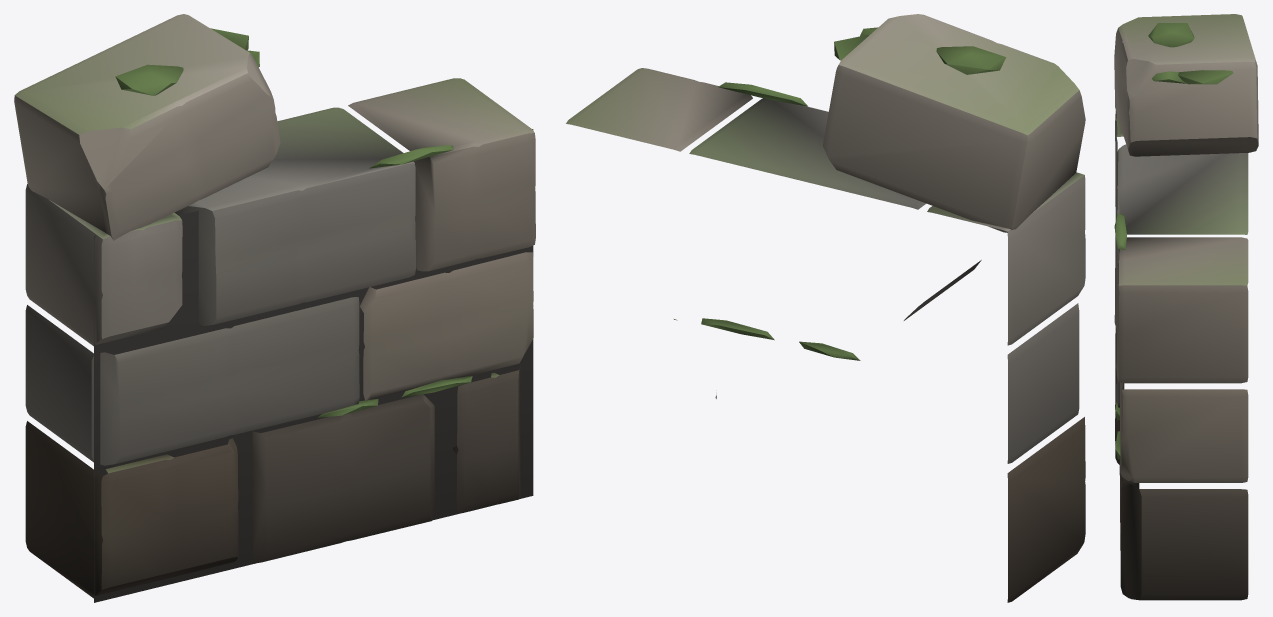
File: ruins-wall-b-v2.glb
3 renders of one model, left to right at view 1: azimuth 30°, elevation 25°; view 2: azimuth 150°, elevation 25°; view 3: azimuth 270°, elevation 25°, orthographic. The views are drawn at different scales.
Visible parts, largest first — view 1: 0_ruins_wall_b; view 2: 0_ruins_wall_b; view 3: 0_ruins_wall_b.
Boxes of the visible parts, left/top/right/bottom form: 0_ruins_wall_b: left=14, top=14, right=535, bottom=602; 0_ruins_wall_b: left=566, top=14, right=1085, bottom=602; 0_ruins_wall_b: left=1114, top=14, right=1258, bottom=600.
Bounding box in the file's own units: 2.05 × 2.14 × 0.6556.
